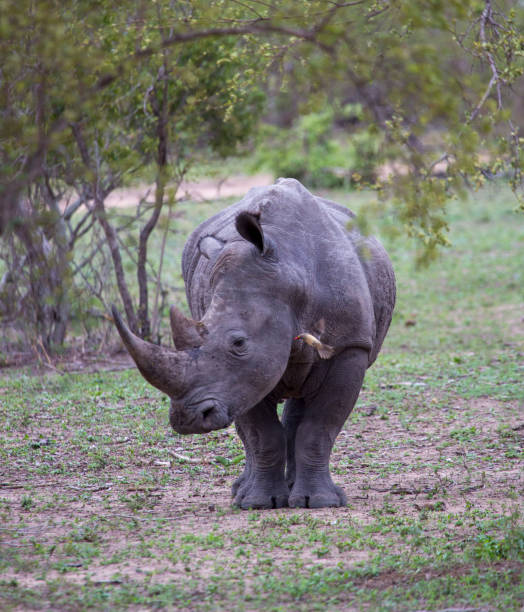rhino: (68, 205, 322, 467)
